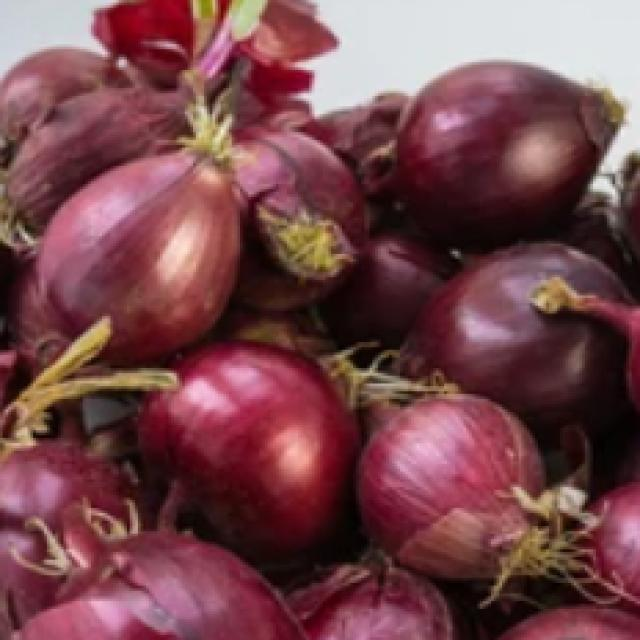sprouting: (11, 326, 138, 446), (494, 489, 602, 588), (182, 5, 235, 91)
